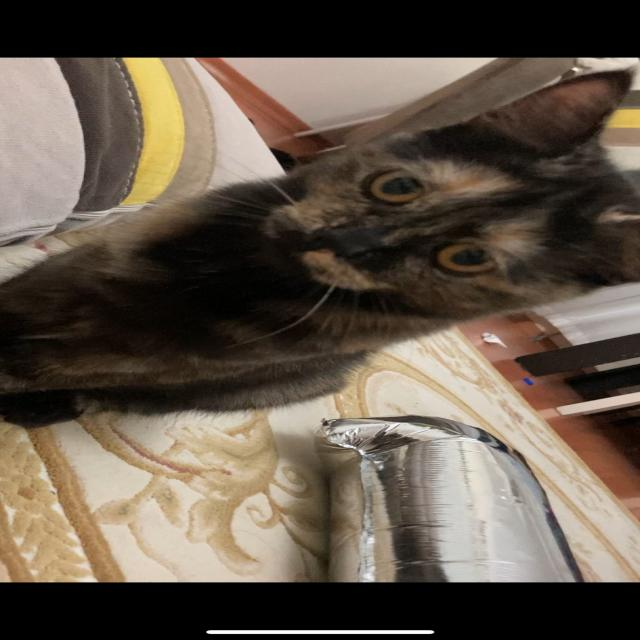authorized: (1, 66, 638, 428)
